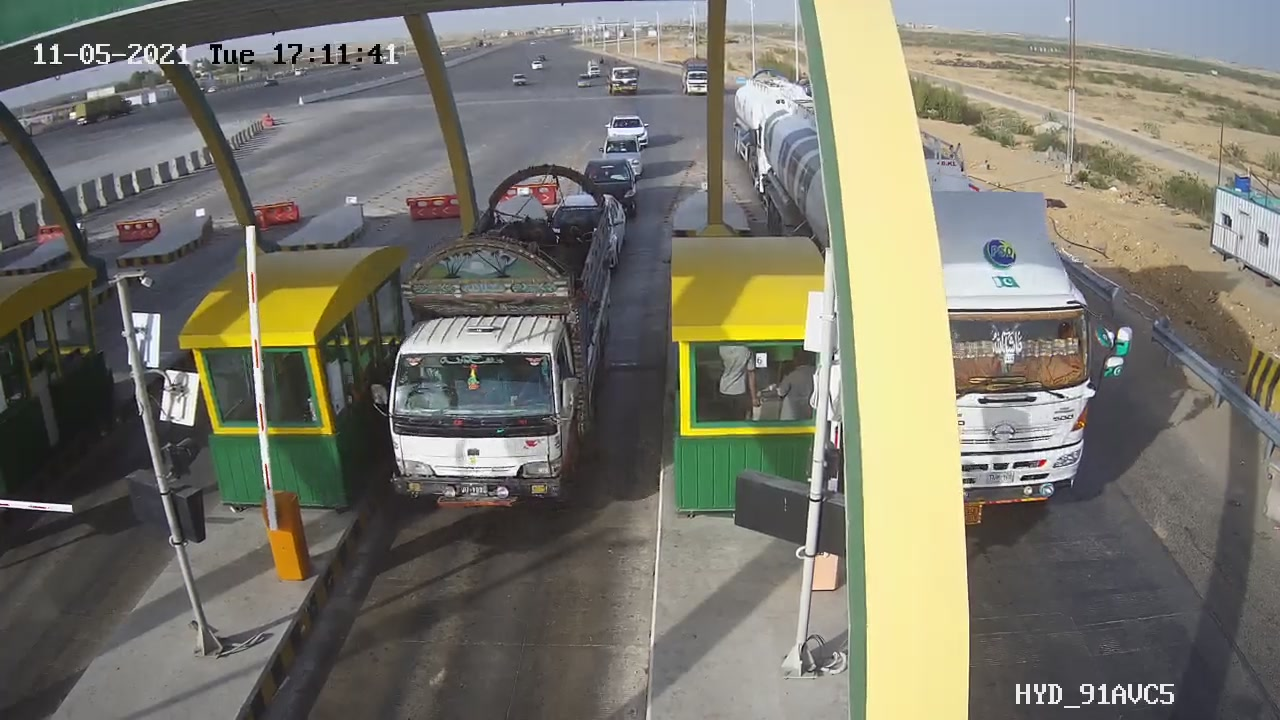F5: (353, 148, 642, 553)
